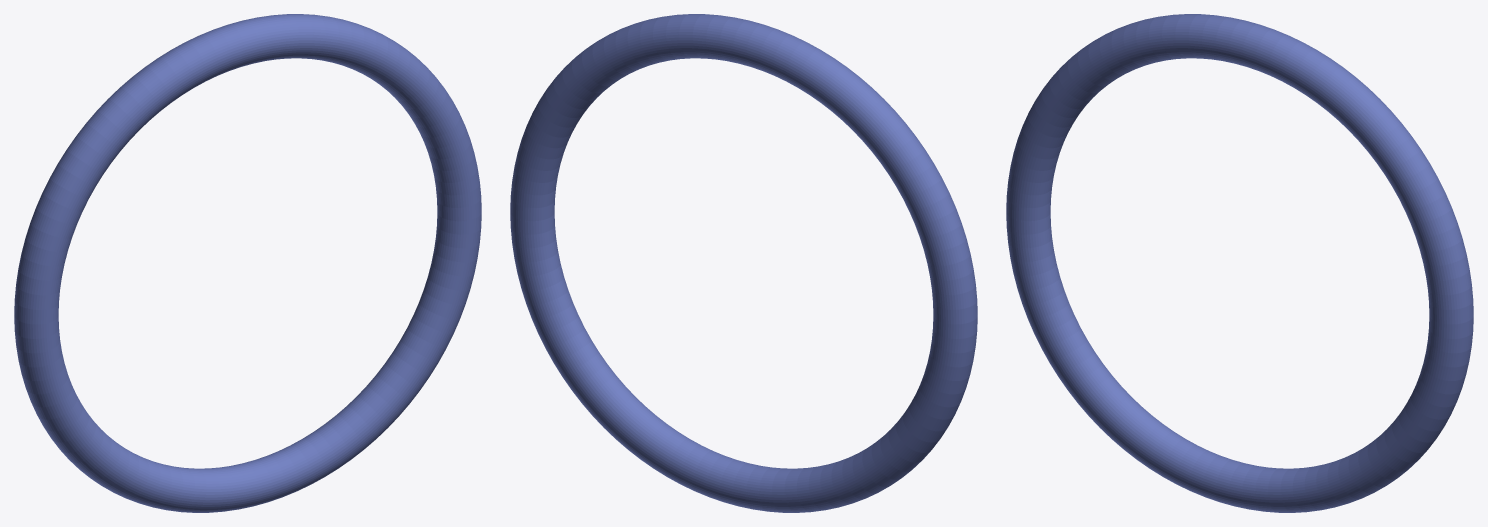
3 renders of one model, left to right at view 1: azimuth 30°, elevation 25°; view 2: azimuth 150°, elevation 25°; view 3: azimuth 330°, elevation 25°, orthographic.
Parts seen in each view (by area): view 1: world; view 2: world; view 3: world.
Boxes of the visible parts, x1,y1,x2,y2 form: world: (14,14,481,512); world: (510,14,977,512); world: (1006,14,1473,512).
Bounding box in the file's own units: 24 × 24 × 2.
